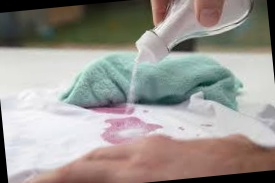wine: (93, 93, 129, 116), (104, 112, 139, 129), (105, 132, 118, 144), (149, 121, 162, 132)
